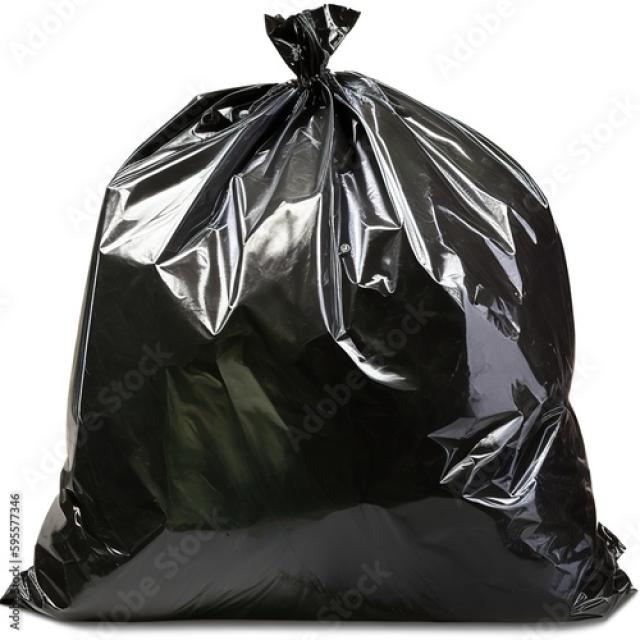trash: (42, 4, 632, 640)
